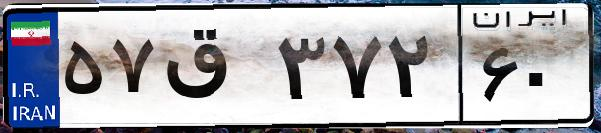0: (525, 38, 570, 115)
2: (385, 28, 445, 110)
3: (270, 28, 330, 110)
5: (57, 26, 110, 100)
6: (475, 38, 525, 113)
7: (330, 28, 385, 110), (110, 28, 158, 98)
ق: (158, 20, 270, 120)
